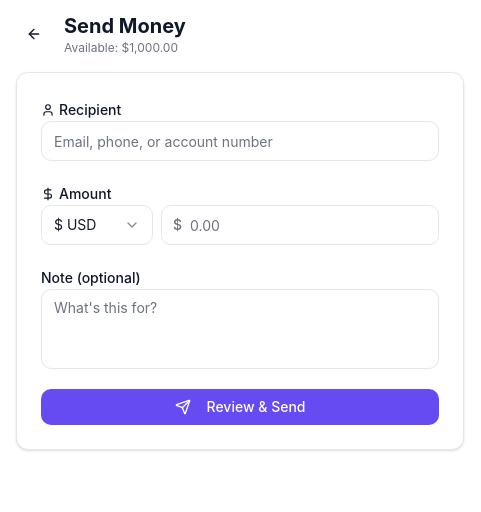
Test: SendMoney › shows validation error for empty recipient
Click the button "Review & Send": (240,407) [41,389,439,425]
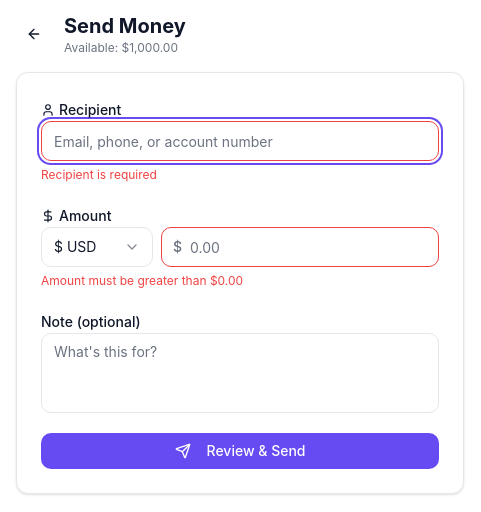
Expected: the text "Recipient is required" is shown, [41,167,157,182]
